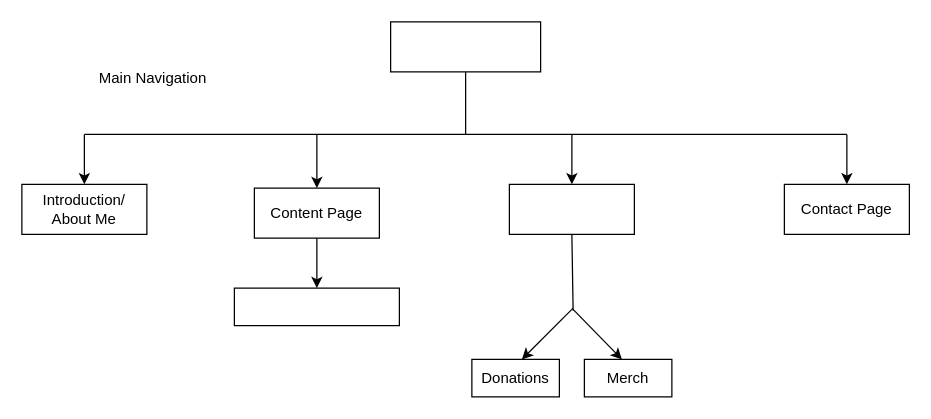
The diagram is 931 pixels wide and 419 high, and some of its shapes have lost their labels. The shapes that lost their labels are listed below. From the top down, each one's centre as x and y in pixels, then its label:
At (465,46): "Homep age".
At (571,208): "Support Page".
At (316,306): "Posts/Platforms/Music".
